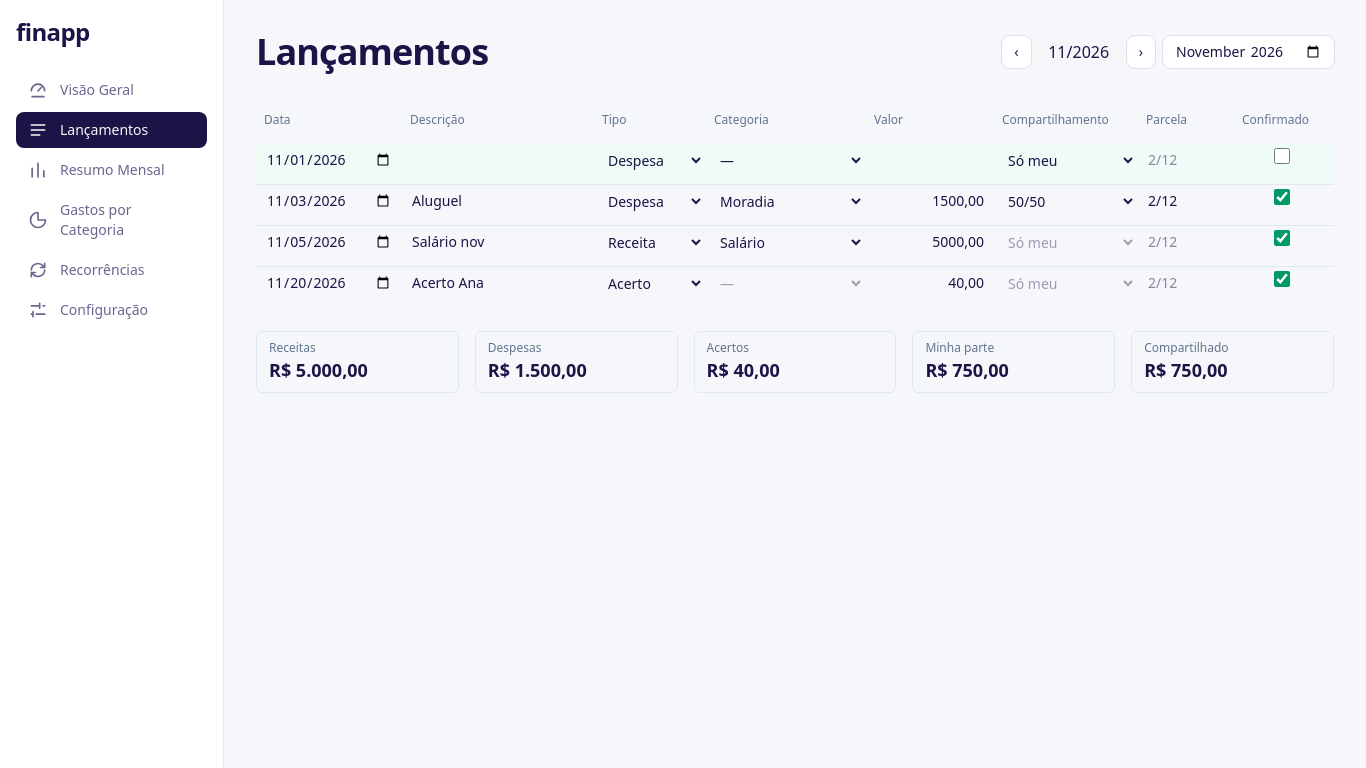
Test case: Month navigation › moves between months and shows each month
The width and height of the screenshot is (1366, 768).
Expected: the heading "Lançamentos" is shown, [256,32,488,72]
Expected: the text "11/2026" is shown, [1048,41,1109,63]
Click the button named "Próximo mês": (1141, 52) [1127,36,1155,68]
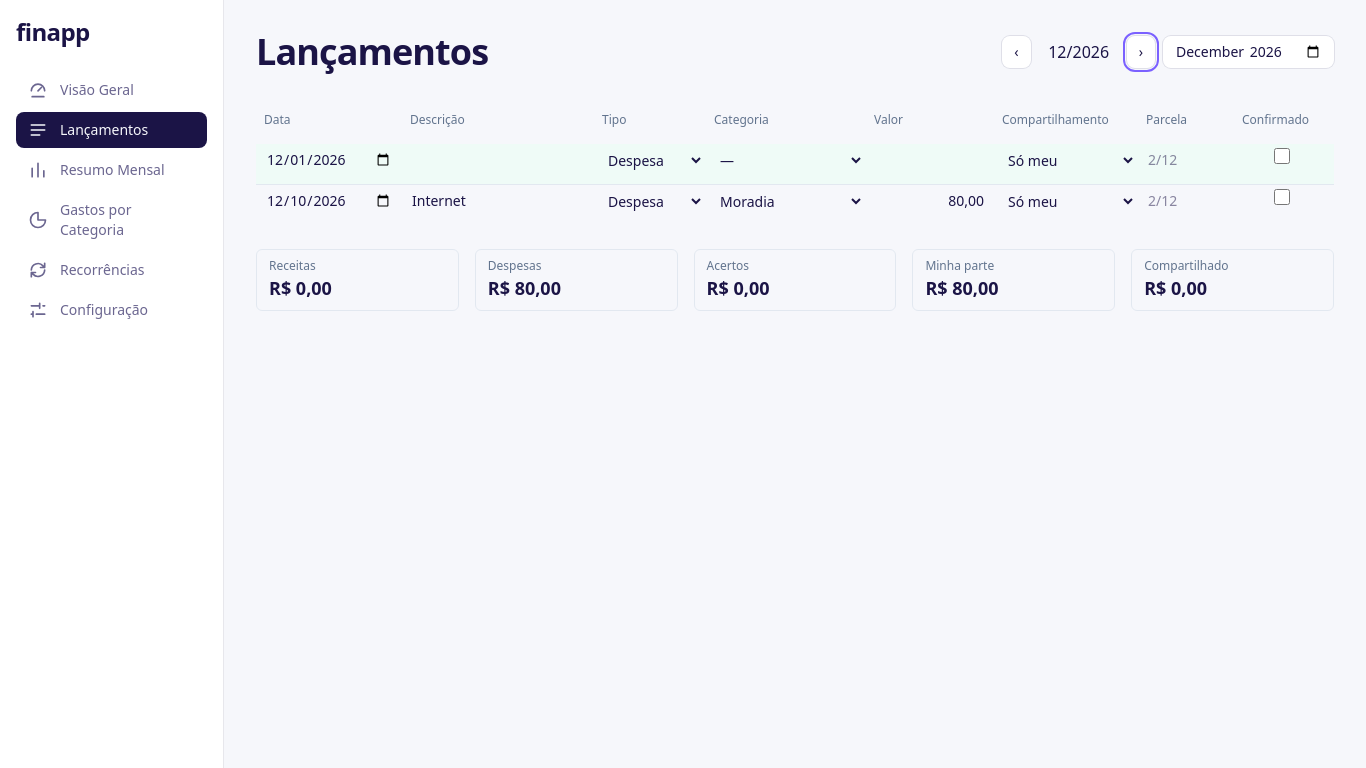
Expected: the row named "Internet" is shown, [256,184,1334,225]
Expected: the text "12/2026" is shown, [1048,41,1109,63]
Expected: the field labelled "Aluguel" is gone
Click the button named "Mês anterior": (1016, 52) [1002,36,1031,68]
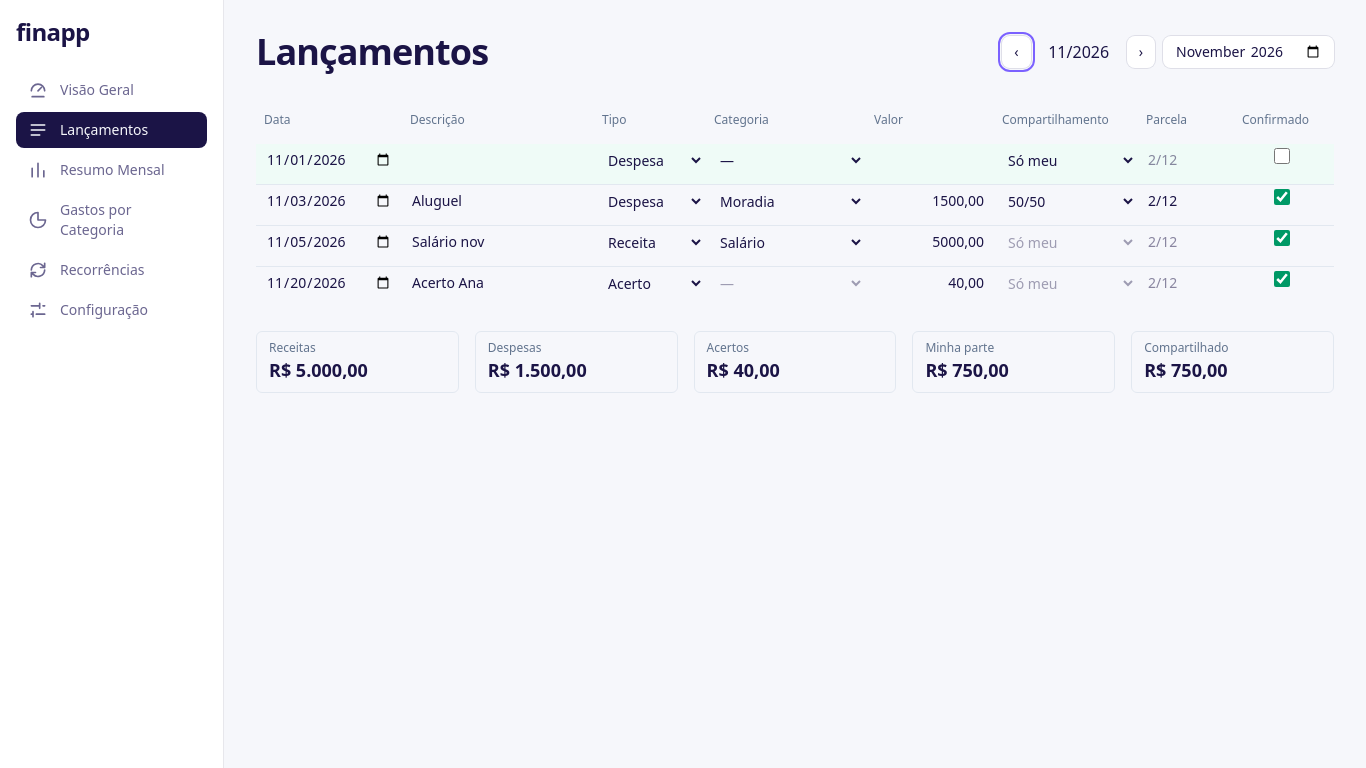
Expected: the row named "Aluguel" is shown, [256,184,1334,226]
